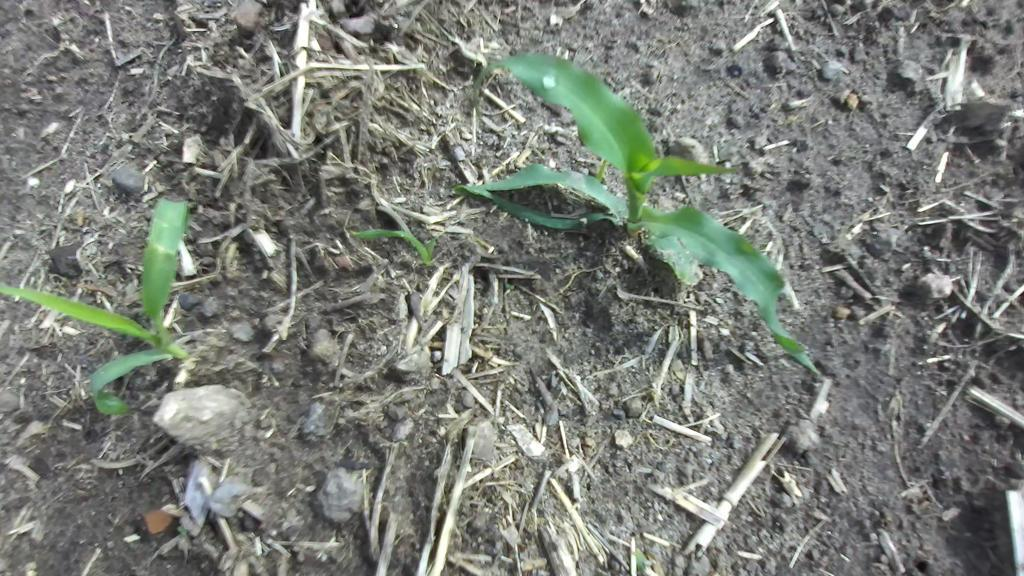BroWeed: (626, 547, 654, 574), (175, 524, 189, 537), (504, 283, 515, 290)
Maize: (424, 29, 895, 375), (0, 168, 267, 430), (345, 224, 437, 266)
